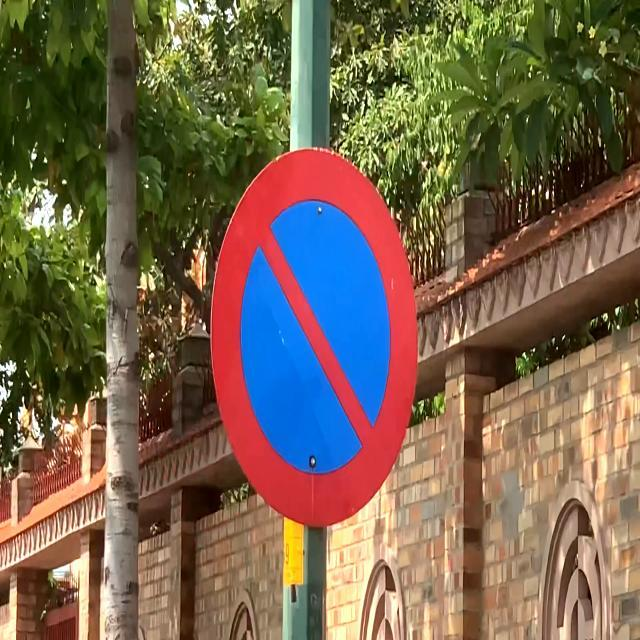P-131a: (208, 145, 418, 528)
